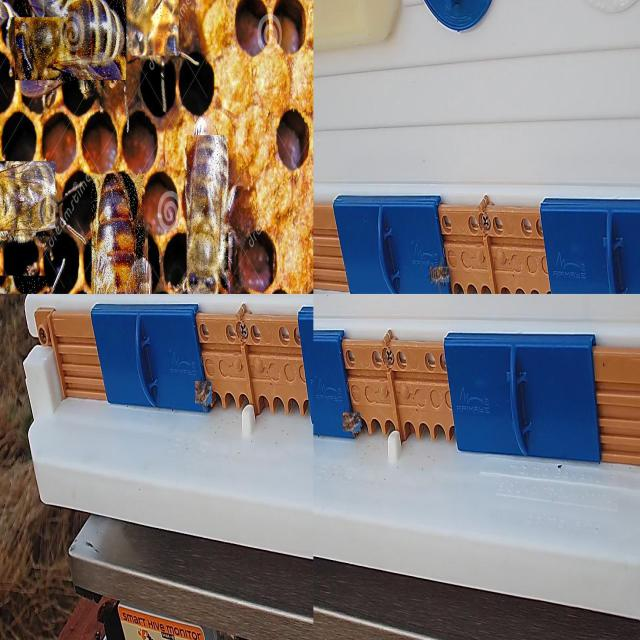honeybee: (4, 0, 121, 80), (186, 130, 230, 292), (94, 172, 144, 300), (1, 161, 56, 234), (124, 0, 176, 52), (431, 266, 449, 285), (196, 382, 212, 402), (344, 413, 359, 431)
